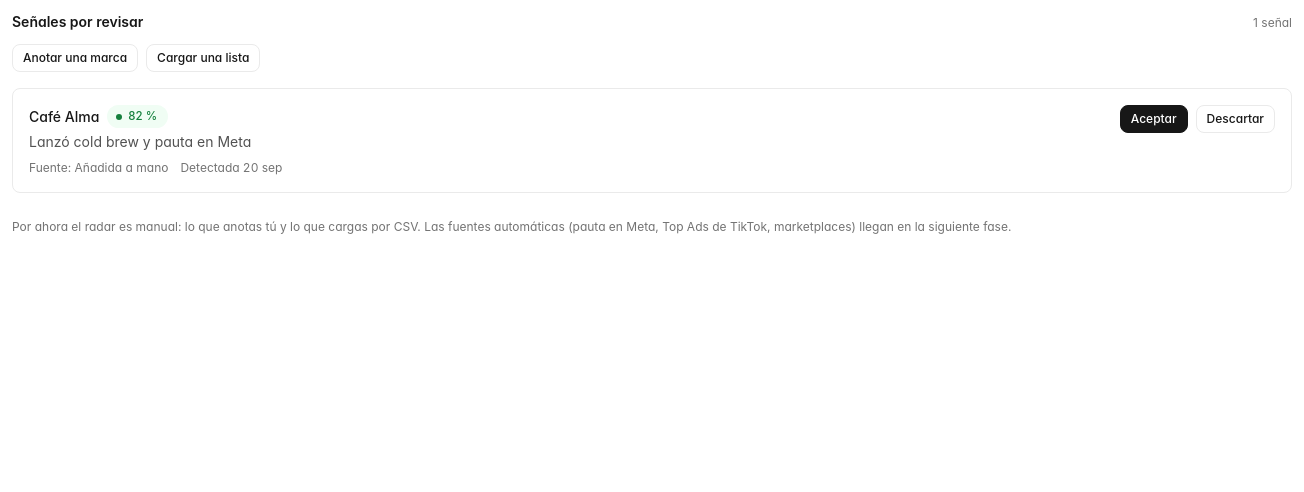
Test case: Radar › descartar con motivo envía el texto y avisa que no vuelve
This screenshot has width=1304, height=492.
Click the button with aria-label "Descartar: Café Alma".
click(1235, 119)  # box [1196,105,1275,133]
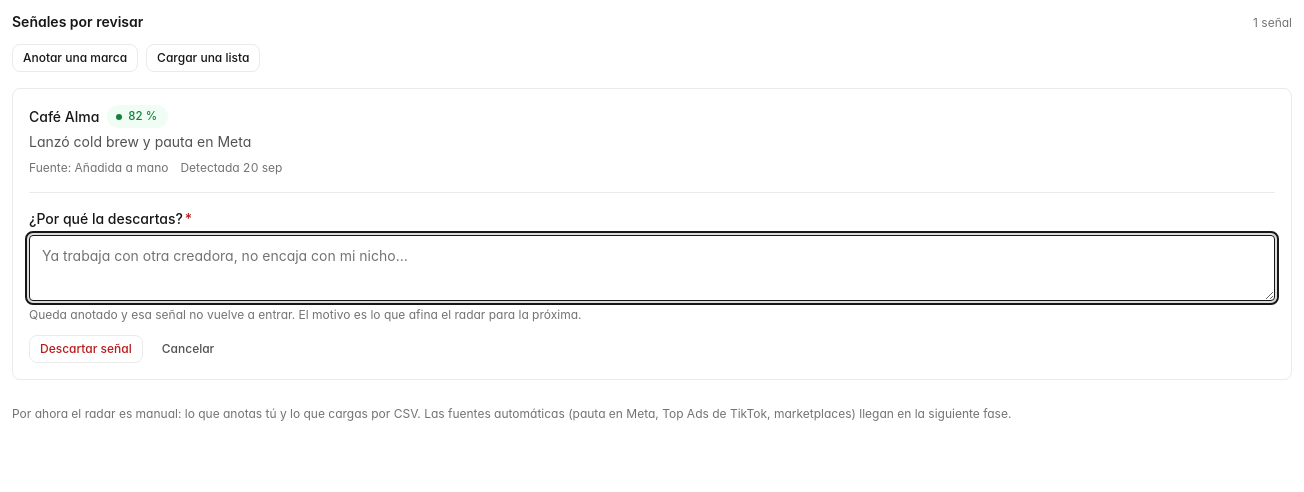
Type "No encaja con mi nicho" into the text box labelled "¿Por qué la descartas?*".
click(652, 268); type("No encaja con mi nicho")  # box [29,235,1275,301]
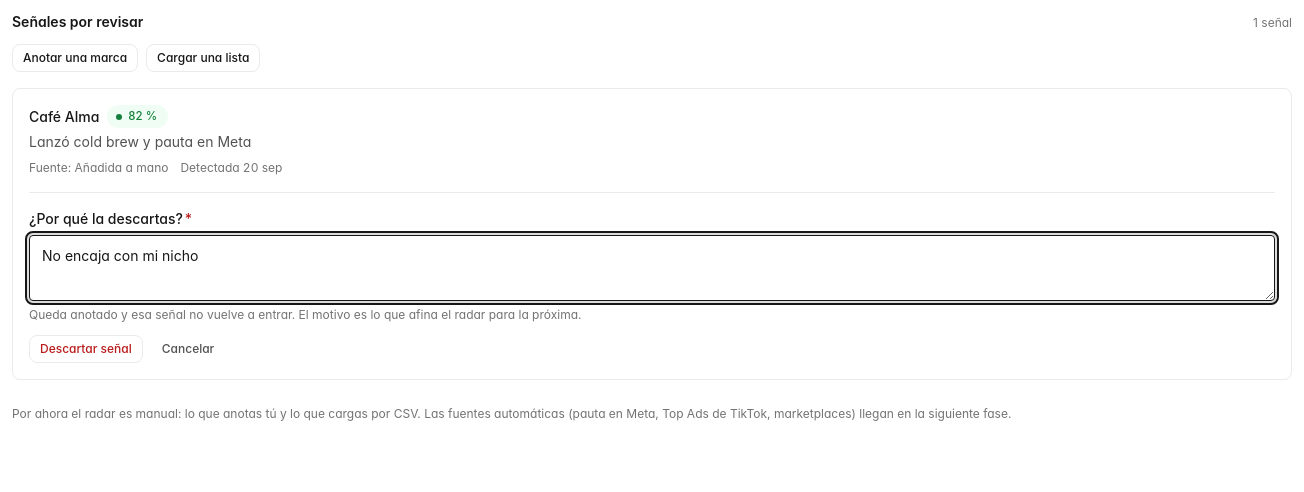
Click the button "Descartar señal".
click(86, 349)  # box [29,335,143,363]
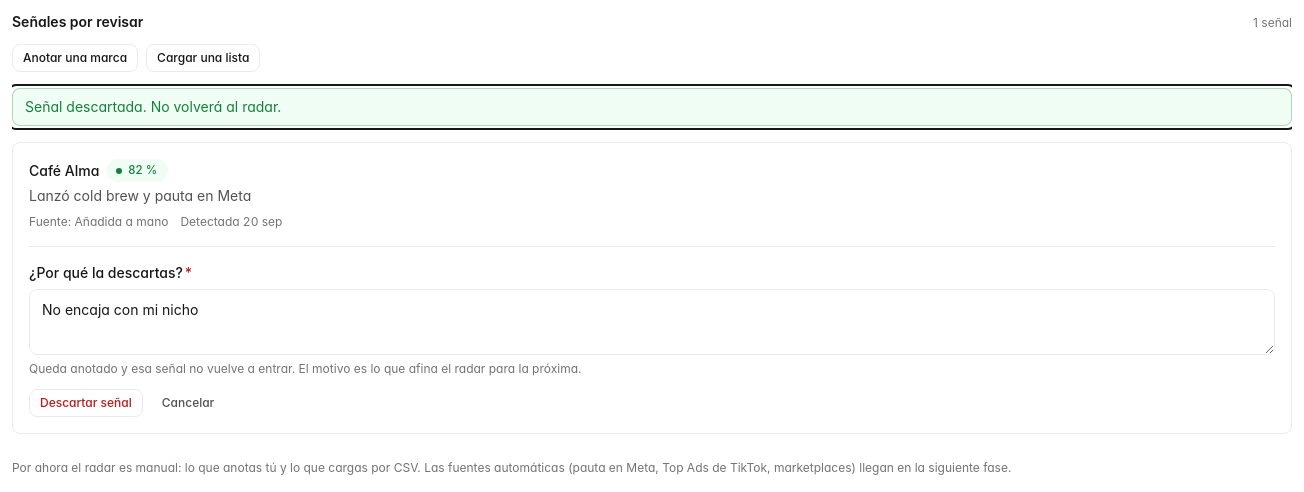
Now the message shows "No volverá", box [25,98,281,115]
